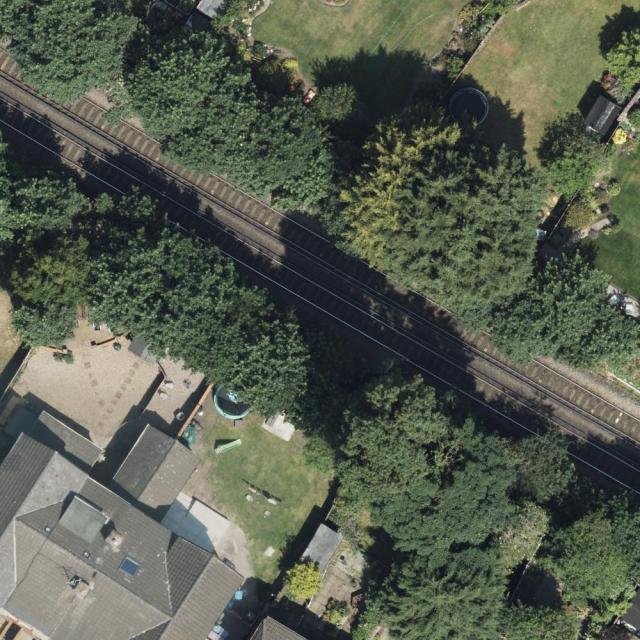roof: (0, 406, 248, 640), (248, 614, 312, 640)
skylight: (113, 552, 145, 587)
